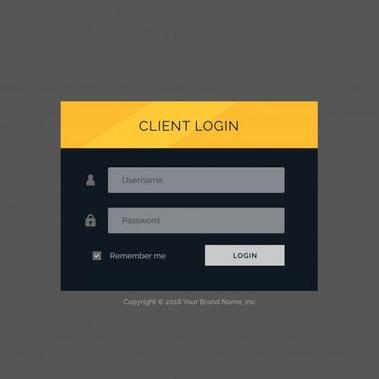button: (203, 243, 287, 267)
checkbox: (91, 249, 103, 261)
checkbox_with_label: (88, 247, 167, 263)
field: (106, 165, 287, 194), (107, 207, 285, 235)
